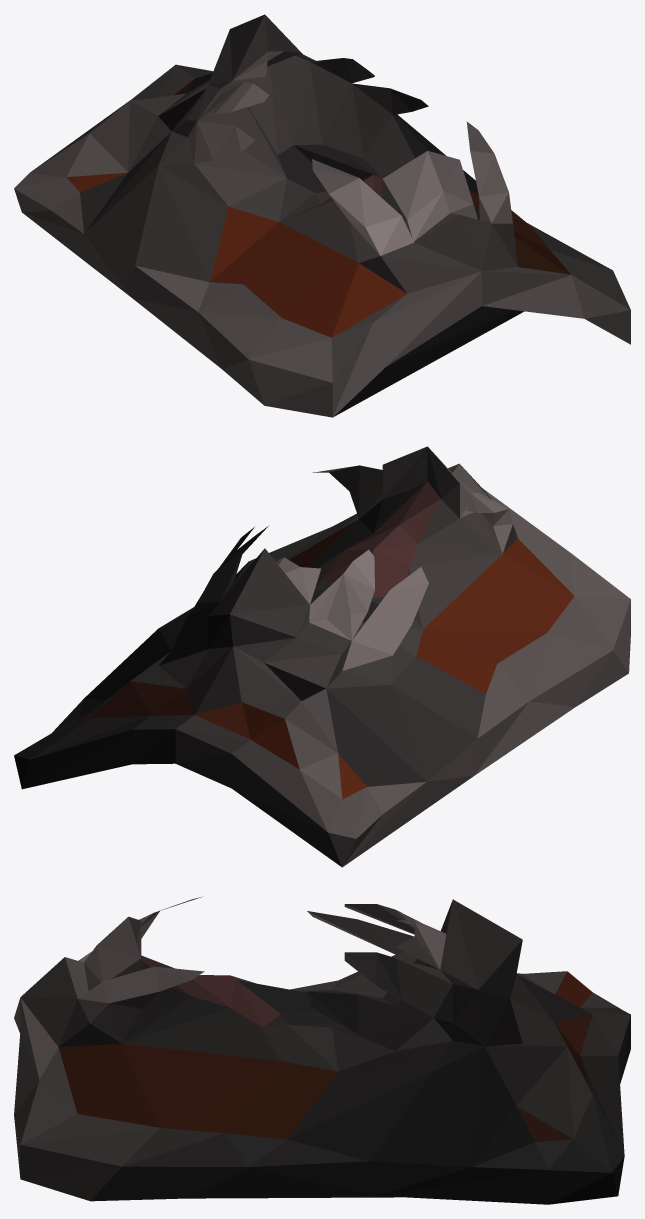
File: dragon-kiteshield.obj
3 views of the same model, one above another, from view 1: azimuth 30°, elevation 25°; view 2: azimuth 150°, elevation 25°; view 3: azimuth 270°, elevation 25° (orthographic).
Parts seen in each view (by area): view 1: Item Dragonfire shield 2026-09-24_19-51-42; view 2: Item Dragonfire shield 2026-09-24_19-51-42; view 3: Item Dragonfire shield 2026-09-24_19-51-42.
Part boxes in pixels (bbox=[...]): Item Dragonfire shield 2026-09-24_19-51-42: bbox=[14, 14, 630, 417]; Item Dragonfire shield 2026-09-24_19-51-42: bbox=[14, 446, 630, 867]; Item Dragonfire shield 2026-09-24_19-51-42: bbox=[14, 896, 630, 1204].
Size of the model in its own units: 66 by 39 by 97.
